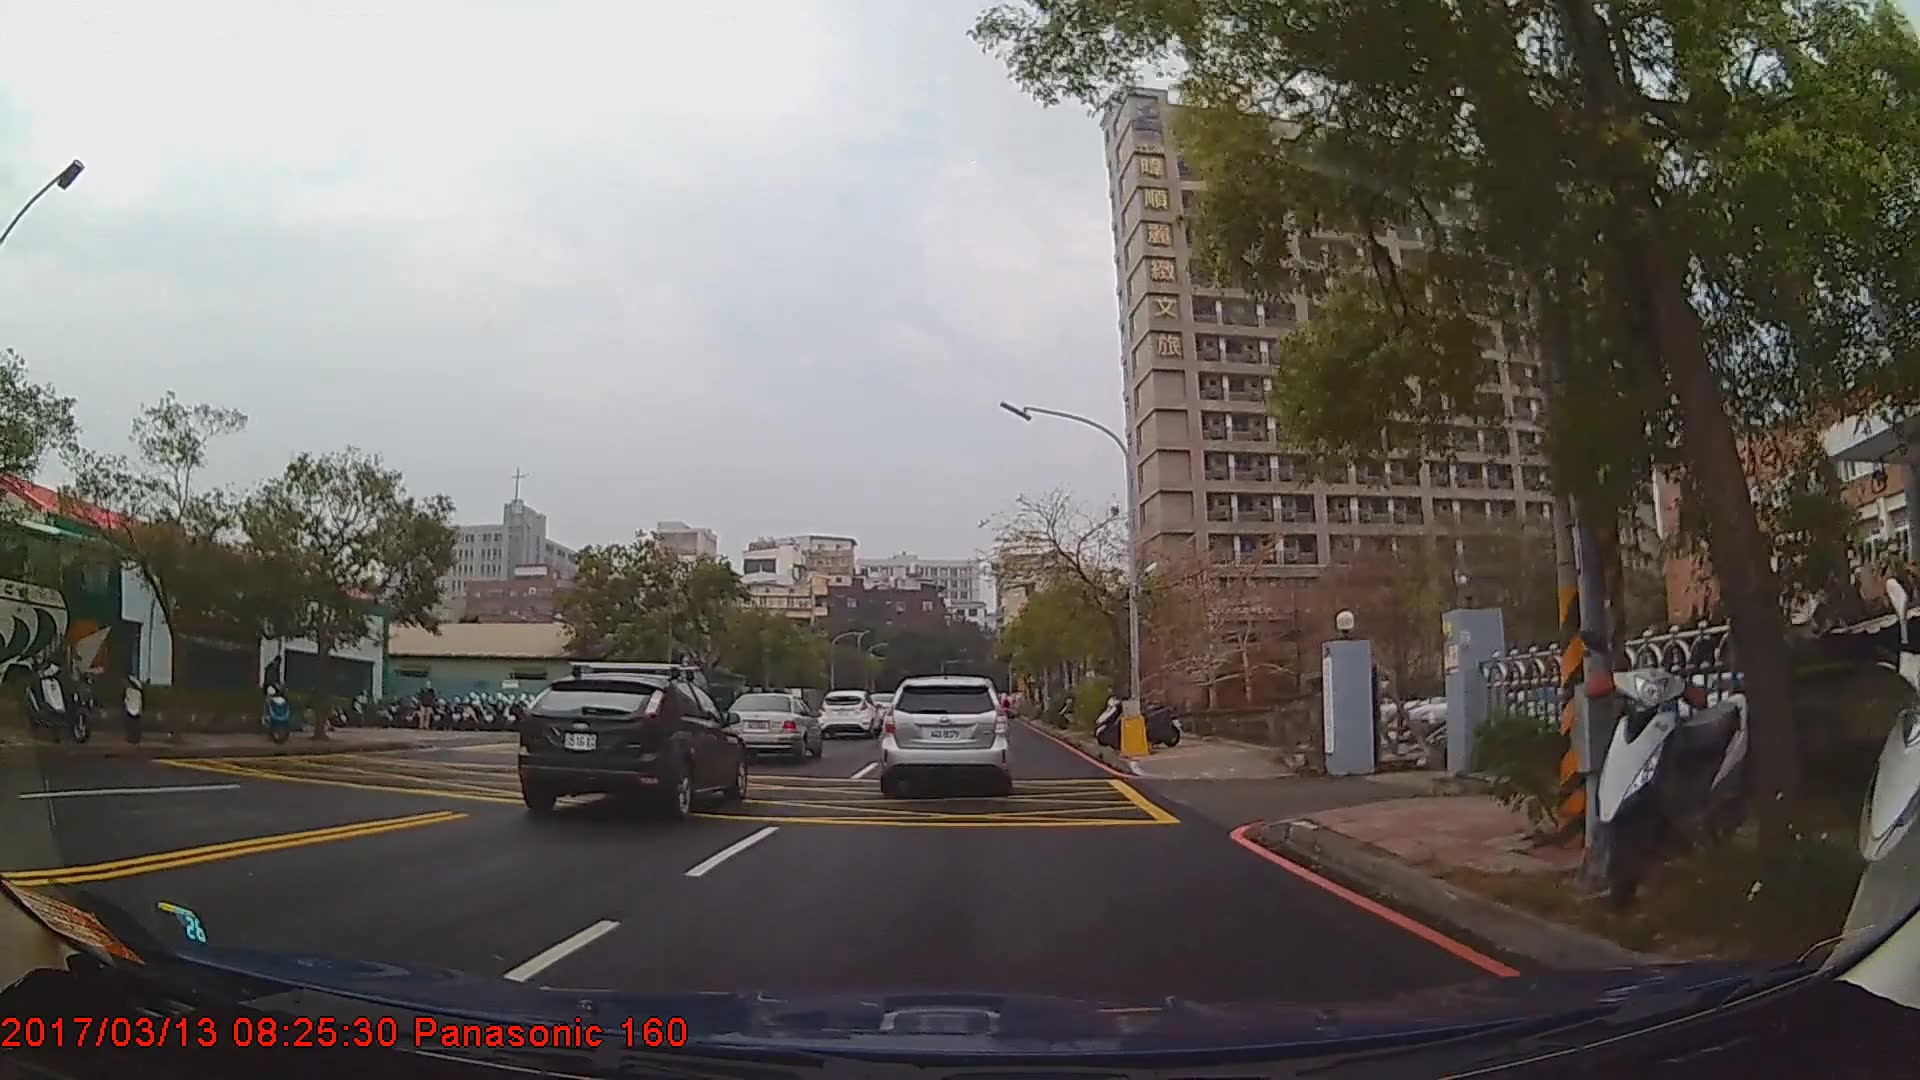pedestrian: (419, 682, 439, 732)
vehicle: (515, 669, 747, 815), (0, 502, 124, 723), (882, 673, 1008, 789), (723, 689, 821, 760), (818, 686, 881, 736)
